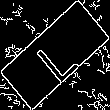L_NW: (28, 26, 82, 84)
